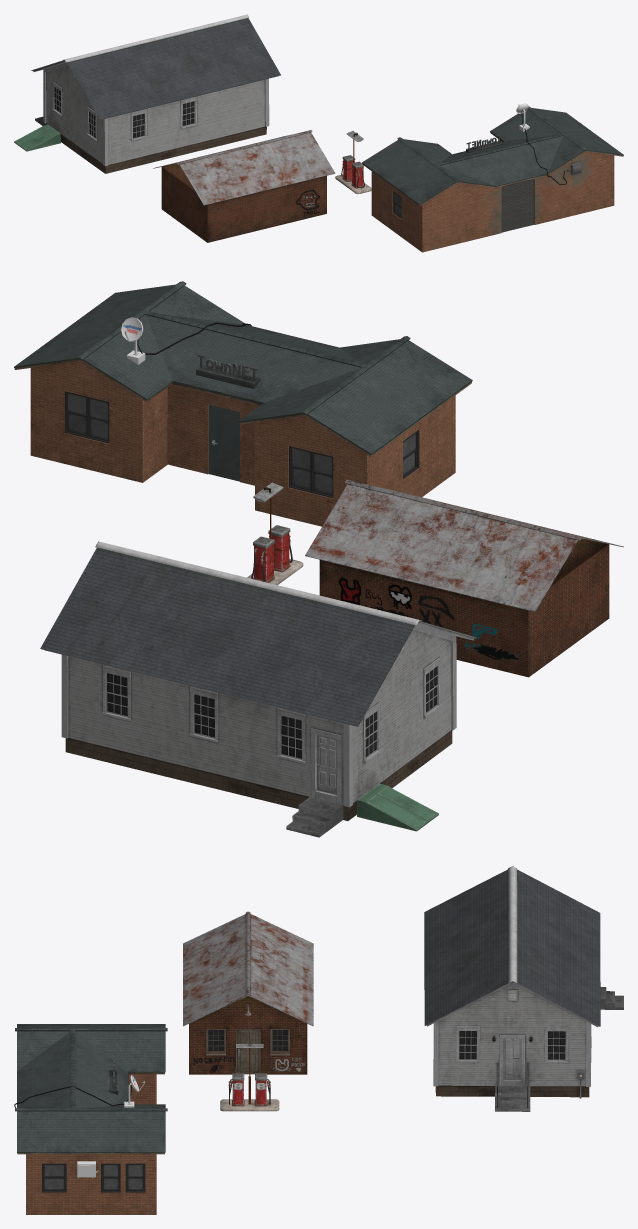
The model's file is 3_unique_game-ready_buildings.glb.
The picture shows the model from 3 angles, top to bottom: view 1: azimuth 30°, elevation 25°; view 2: azimuth 150°, elevation 25°; view 3: azimuth 270°, elevation 25°; orthographic projection. The views are drawn at different scales.
Parts seen in each view (by area): view 1: schoolhouse N7, townnet-garage, small gas station; view 2: schoolhouse N7, townnet-garage, small gas station; view 3: schoolhouse N7, townnet-garage, small gas station.
Part boxes in pixels (left/top/right/bottom): schoolhouse N7: left=14, top=14, right=280, bottom=173; townnet-garage: left=362, top=103, right=623, bottom=252; small gas station: left=153, top=130, right=371, bottom=242; schoolhouse N7: left=40, top=541, right=477, bottom=837; townnet-garage: left=14, top=281, right=472, bottom=526; small gas station: left=247, top=479, right=623, bottom=677; schoolhouse N7: left=424, top=866, right=623, bottom=1111; townnet-garage: left=14, top=1024, right=167, bottom=1214; small gas station: left=183, top=911, right=313, bottom=1111.
Bounding box in the file's own units: 23.64 × 5.54 × 24.76.
8 materials, 7 textured.
